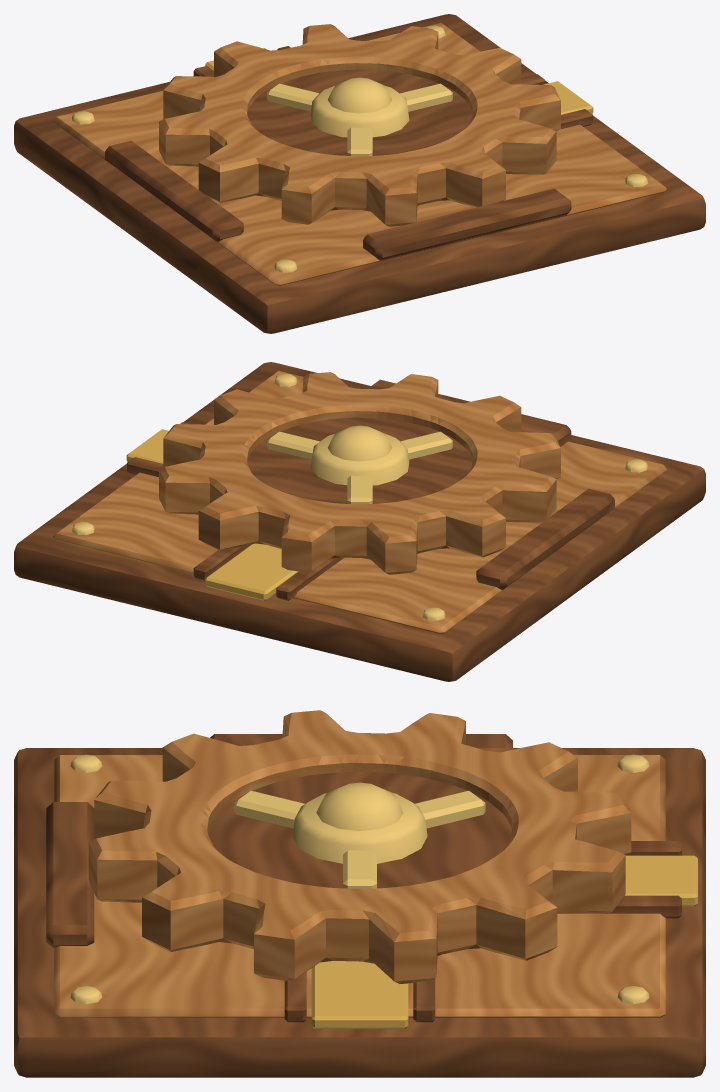
The model's file is engrenage_coude.glb.
3 renders of one model, top to bottom at view 1: azimuth 30°, elevation 25°; view 2: azimuth 150°, elevation 25°; view 3: azimuth 270°, elevation 25°, orthographic. The views are drawn at different scales.
Visible parts, largest first — view 1: engrenage_coude_Socle, Rotor; view 2: engrenage_coude_Socle, Rotor; view 3: engrenage_coude_Socle, Rotor.
Part boxes in pixels (x1=…): engrenage_coude_Socle: x1=14, y1=14, x2=705, y2=333; Rotor: x1=159, y1=24, x2=560, y2=226; engrenage_coude_Socle: x1=14, y1=362, x2=705, y2=681; Rotor: x1=159, y1=372, x2=560, y2=574; engrenage_coude_Socle: x1=14, y1=734, x2=705, y2=1077; Rotor: x1=88, y1=710, x2=631, y2=983.
Size of the model in its own units: 1.72 by 0.406 by 1.72.
5 materials, 2 textured.
